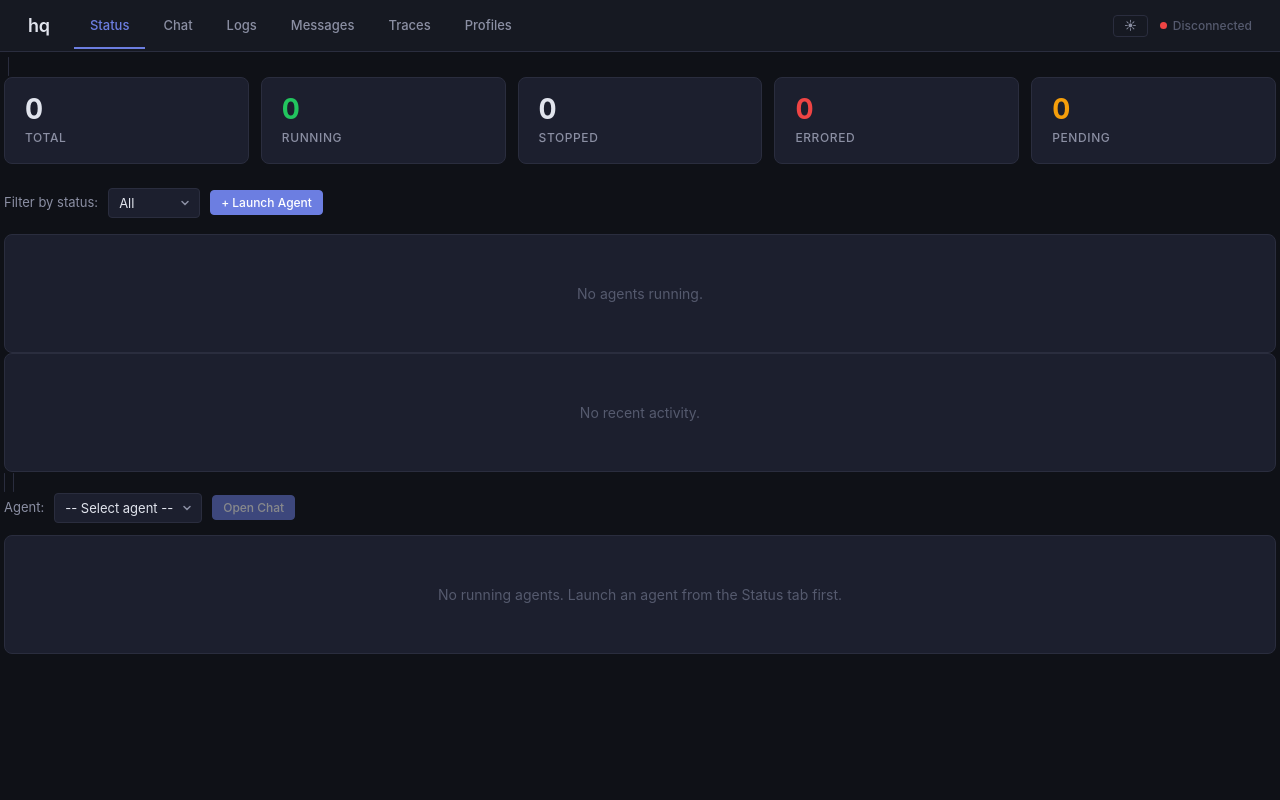
Test case: LaunchDialog › launch agent button opens dialog
The width and height of the screenshot is (1280, 800).
Click the button with test id "open-launch".
click(266, 203)  # box [210,190,323,215]
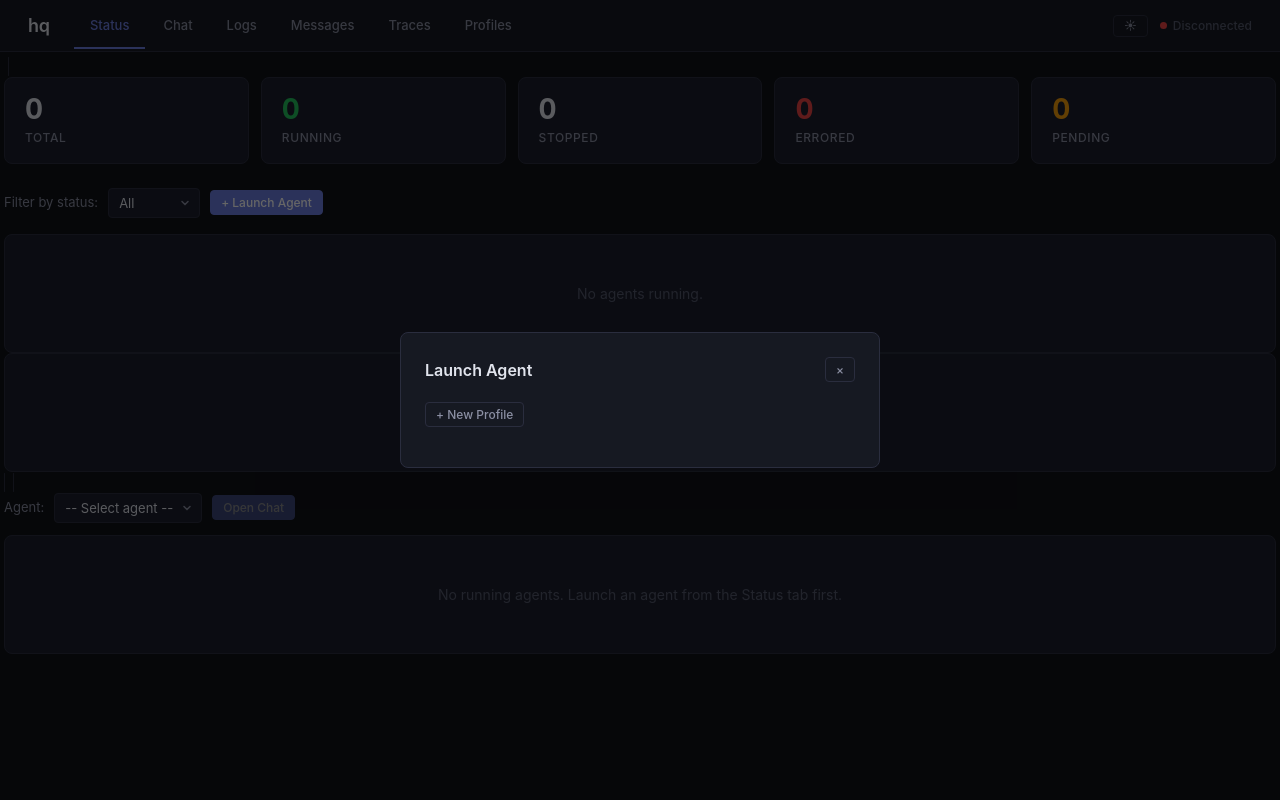
Expected: the element with test id "launch-dialog" is shown
